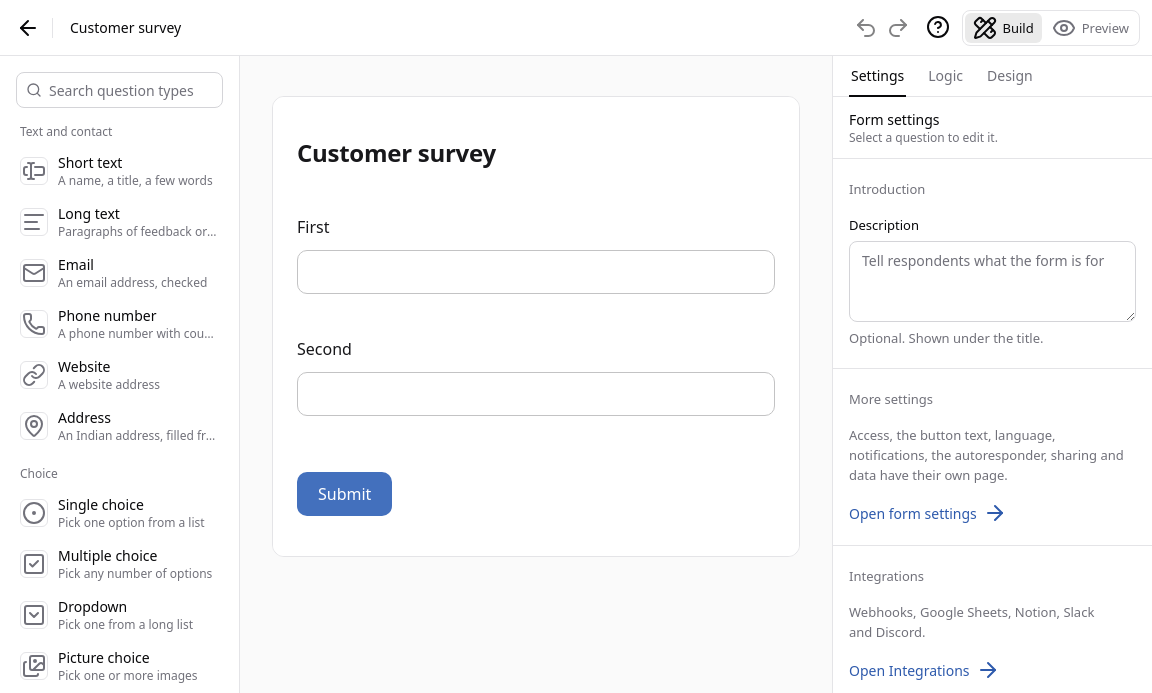
Test: editor keyboard shortcuts › shows shortcuts in tooltips
This screenshot has width=1152, height=693.
Hover over the button named "Undo" at [866, 28], box [850,12,882,44]
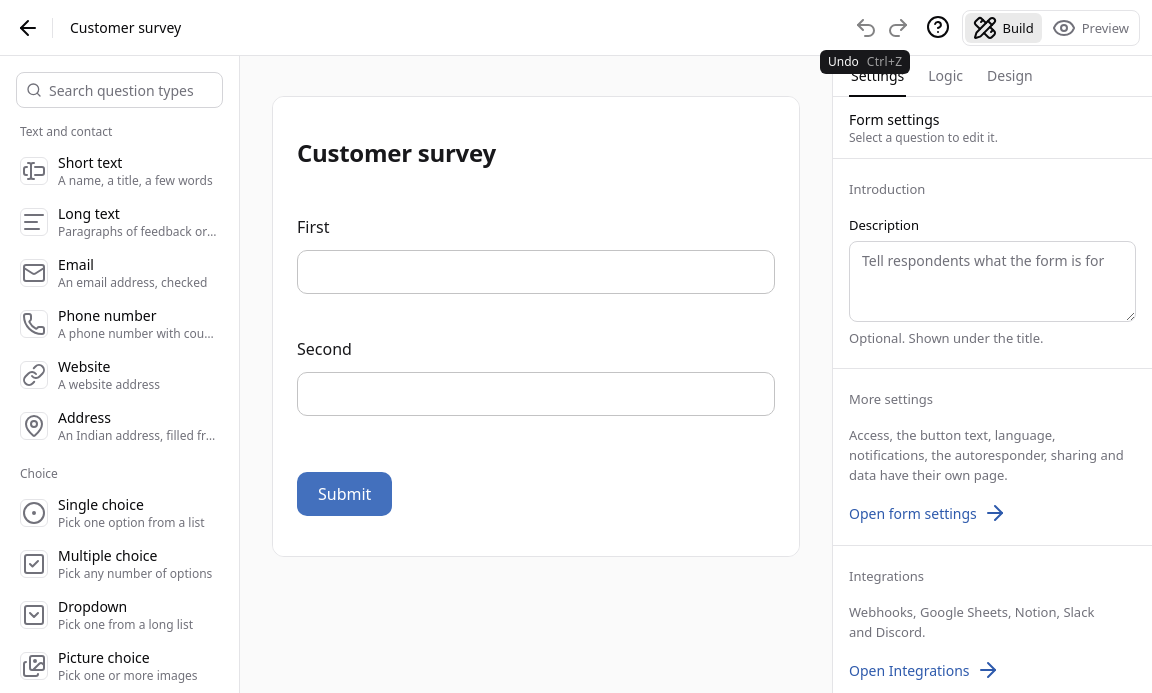
Check: the tooltip reads "Undo Ctrl+Z", box [820,50,910,74]
